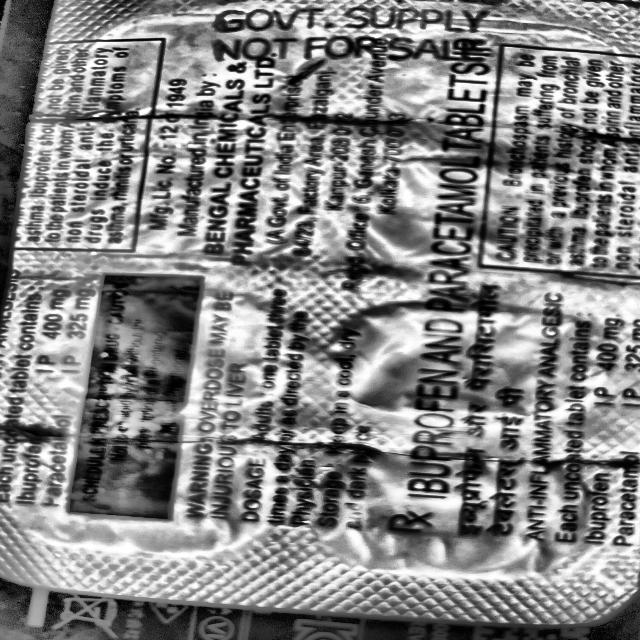IBUPROFEN AND PARACETAMOL TABLETS: (378, 19, 524, 528)
